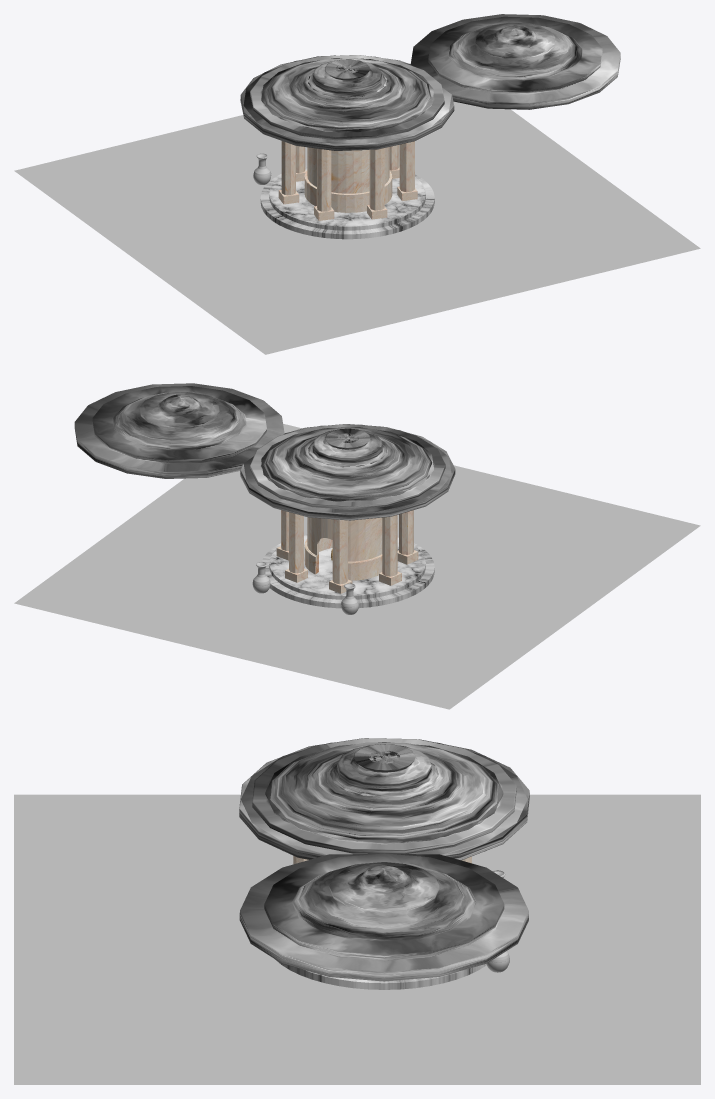
File: ротонда.fbx
3 renders of one model, top to bottom at view 1: azimuth 30°, elevation 25°; view 2: azimuth 150°, elevation 25°; view 3: azimuth 270°, elevation 25°, orthographic. The views are drawn at different scales.
Visible parts, largest first — view 1: Плоскость, Крыша.003, Крыша.002, Цоколь, Колонны, Фасад, Крыша; view 2: Плоскость, Крыша.003, Крыша.002, Цоколь, Колонны, Фасад.001, Крыша; view 3: Плоскость, Крыша.003, Крыша.002, Крыша, Цоколь.
Boxes of the visible parts, <box> form: Плоскость: <box>14,101,700,354</box>; Крыша.003: <box>410,14,620,109</box>; Крыша.002: <box>240,55,454,150</box>; Цоколь: <box>260,165,434,239</box>; Колонны: <box>278,141,417,220</box>; Фасад: <box>305,147,392,212</box>; Крыша: <box>243,55,451,150</box>; Плоскость: <box>14,423,700,709</box>; Крыша.003: <box>74,383,284,478</box>; Крыша.002: <box>240,424,455,520</box>; Цоколь: <box>261,534,434,608</box>; Колонны: <box>276,510,418,593</box>; Фасад.001: <box>304,517,382,580</box>; Крыша: <box>243,424,451,513</box>; Плоскость: <box>14,794,700,1084</box>; Крыша.003: <box>239,853,528,981</box>; Крыша.002: <box>239,738,529,860</box>; Крыша: <box>241,738,527,854</box>; Цоколь: <box>275,959,486,989</box>.
Bounding box in the file's own units: 50670 × 13813 × 46228.
